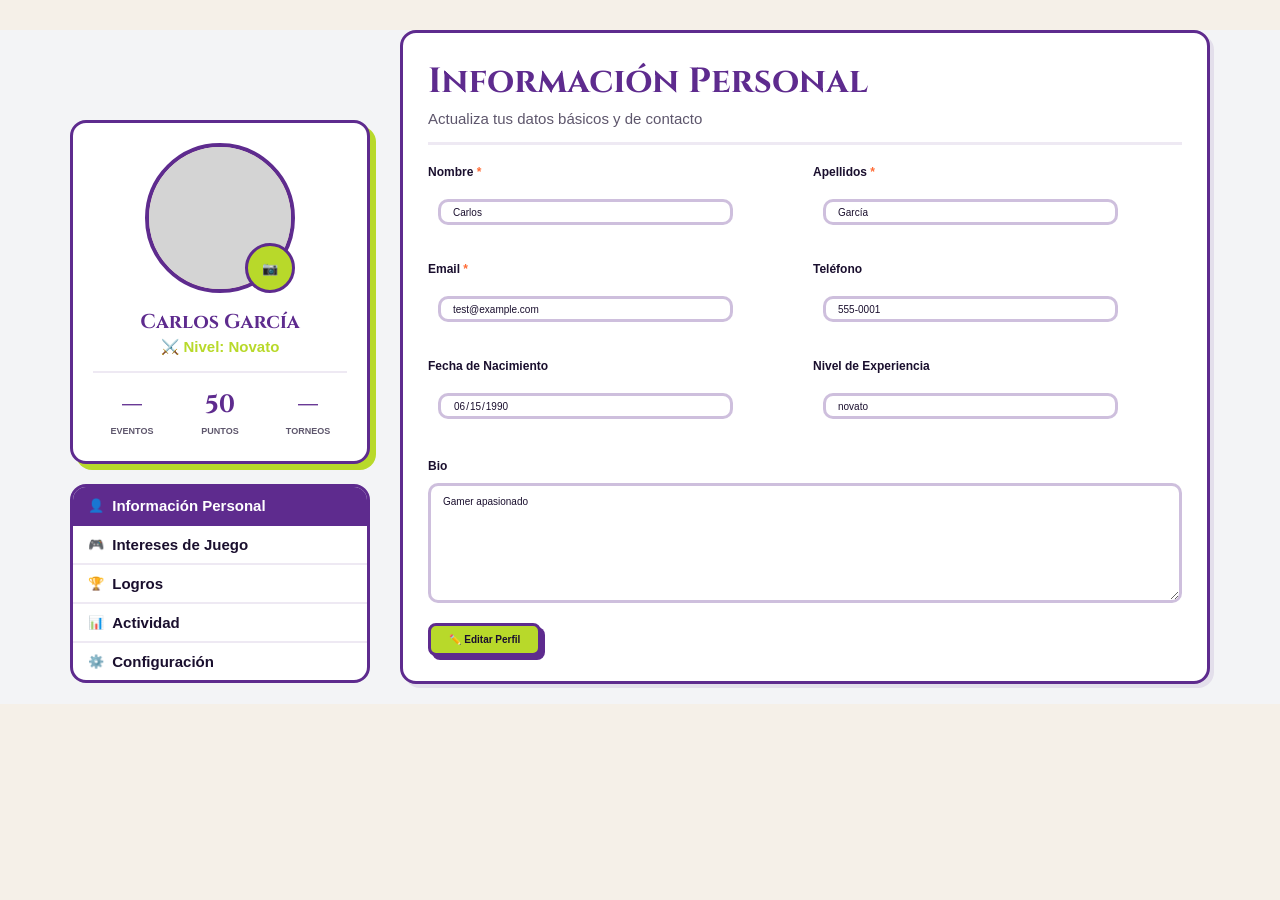
PerfilPage › enables edit mode when edit button is clicked
Check: the heading "Carlos García" is shown, box [140, 308, 300, 335]
Click the button "✏️ Editar Perfil": {"x": 485, "y": 640} [428, 623, 541, 656]
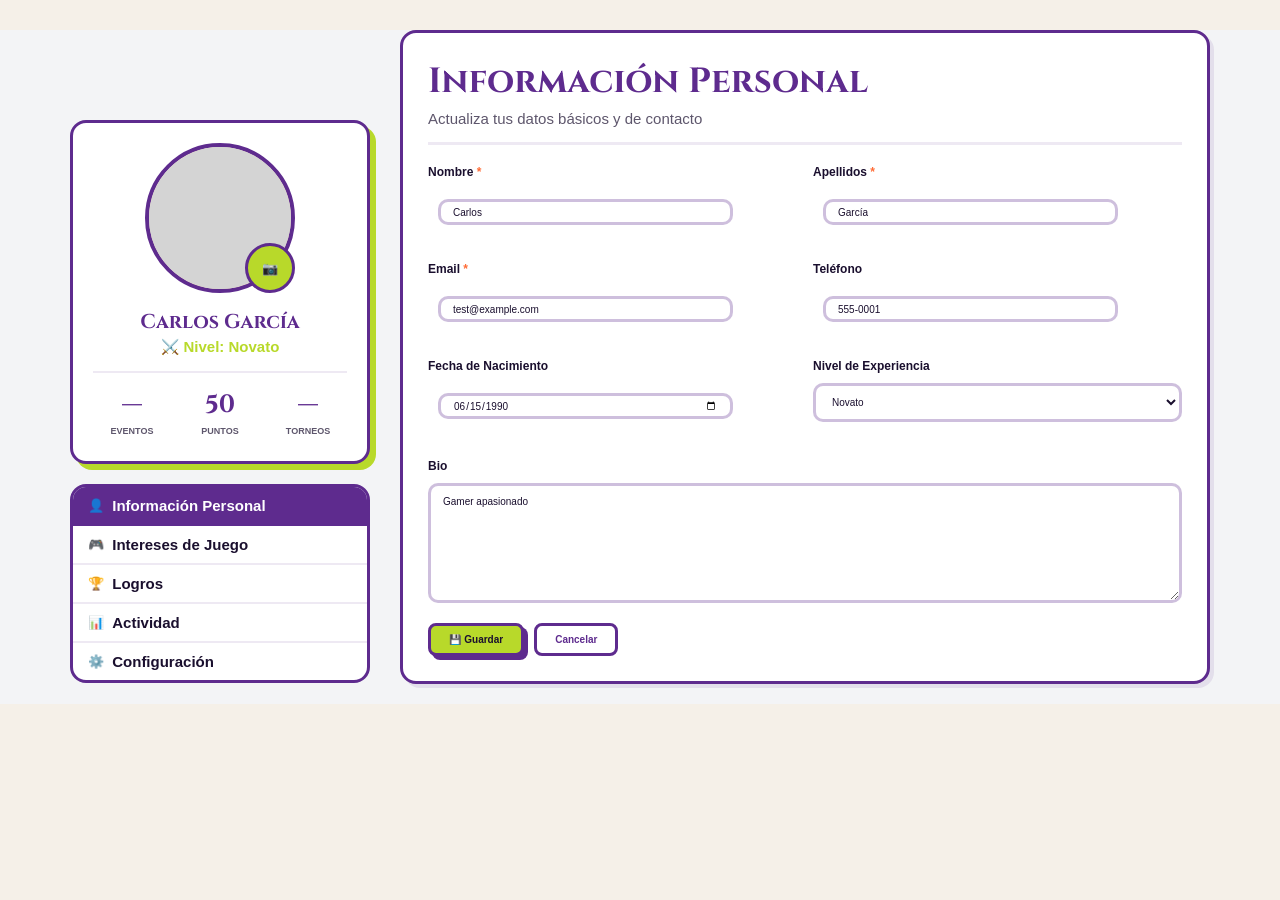
Check: the button "💾 Guardar" is shown, box [428, 623, 524, 656]
Check: the button "Cancelar" is shown, box [534, 623, 618, 656]
